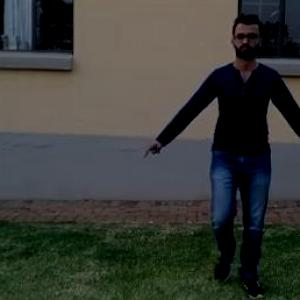land: (149, 17, 299, 296)
